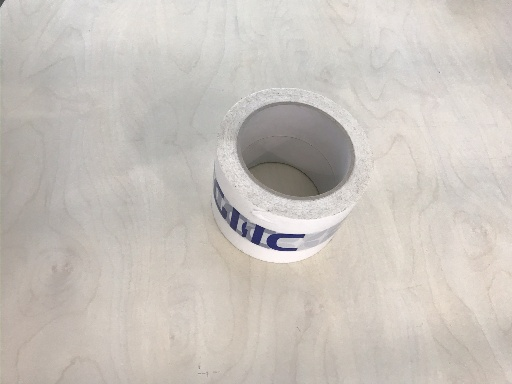Nastro: (211, 86, 372, 265)
